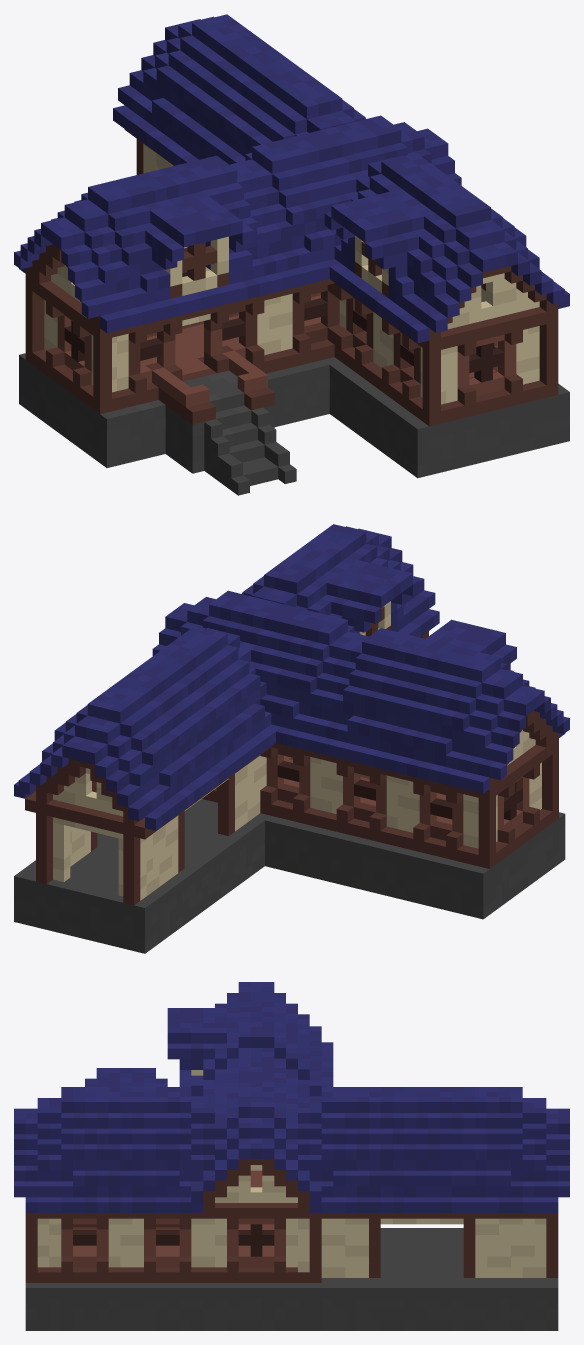
Rendered from stables_1.obj.
The picture shows the model from 3 angles, top to bottom: view 1: azimuth 30°, elevation 25°; view 2: azimuth 150°, elevation 25°; view 3: azimuth 270°, elevation 25°; orthographic projection. The views are drawn at different scales.
Size of the model in its own units: 3.3 by 1.9 by 4.7.
1 material, 1 textured.
